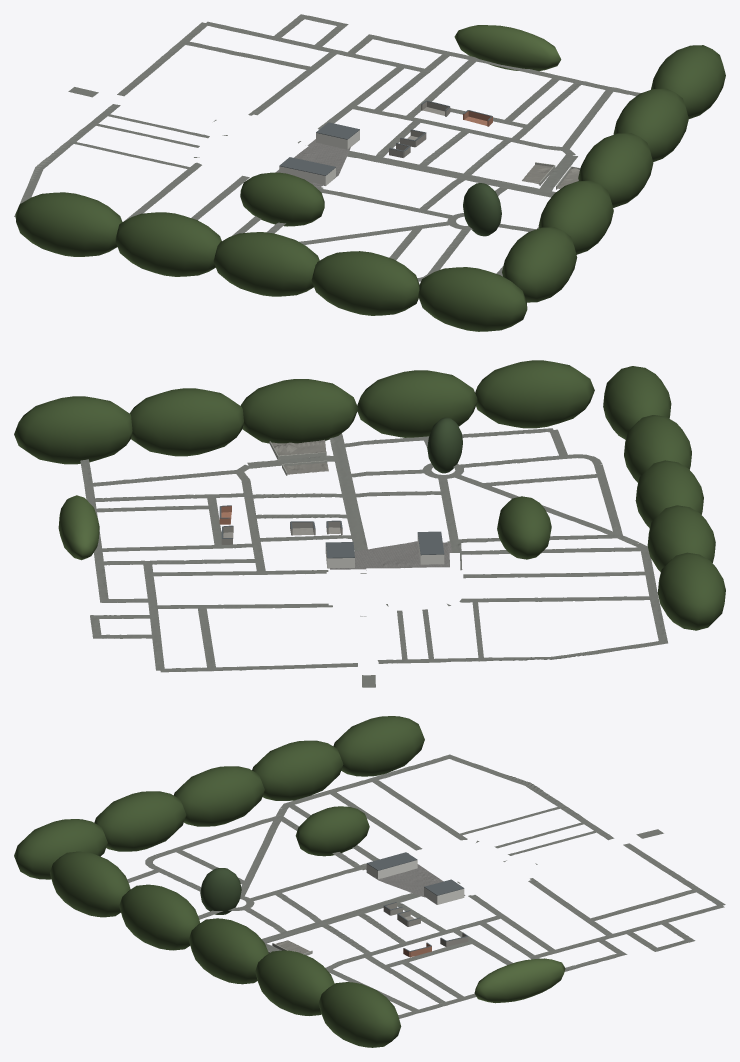
The model's file is layout.glb.
The picture shows the model from 3 angles, top to bottom: view 1: azimuth 30°, elevation 25°; view 2: azimuth 150°, elevation 25°; view 3: azimuth 270°, elevation 25°; orthographic projection. The views are drawn at different scales.
Visible parts, largest first — view 1: PROVISIONAL_spatial-main-paths, PROVISIONAL_canopy_woodland-west-4, PROVISIONAL_canopy_woodland-west-3, PROVISIONAL_canopy_woodland-west-0, PROVISIONAL_canopy_woodland-west-1, PROVISIONAL_canopy_woodland-west-2, PROVISIONAL_canopy_woodland-south-0, PROVISIONAL_canopy_woodland-south-2, PROVISIONAL_canopy_woodland-south-1, PROVISIONAL_canopy_west-mid-canopy, PROVISIONAL_canopy_woodland-south-4, PROVISIONAL_canopy_east-edge (+4 smaller); view 2: PROVISIONAL_spatial-main-paths, PROVISIONAL_canopy_woodland-south-0, PROVISIONAL_canopy_woodland-south-4, PROVISIONAL_canopy_woodland-south-3, PROVISIONAL_canopy_woodland-south-2, PROVISIONAL_canopy_woodland-south-1, PROVISIONAL_canopy_woodland-west-0, PROVISIONAL_canopy_woodland-west-4, PROVISIONAL_canopy_woodland-west-1, PROVISIONAL_canopy_woodland-west-3, PROVISIONAL_canopy_woodland-west-2, PROVISIONAL_canopy_west-mid-canopy (+5 smaller); view 3: PROVISIONAL_spatial-main-paths, PROVISIONAL_canopy_woodland-west-0, PROVISIONAL_canopy_woodland-west-3, PROVISIONAL_canopy_woodland-west-2, PROVISIONAL_canopy_woodland-west-1, PROVISIONAL_canopy_woodland-south-4, PROVISIONAL_canopy_woodland-south-1, PROVISIONAL_canopy_woodland-south-0, PROVISIONAL_canopy_woodland-south-2, PROVISIONAL_canopy_woodland-south-3, PROVISIONAL_canopy_woodland-west-4, PROVISIONAL_canopy_east-edge (+3 smaller).
Boxes of the visible parts, <box> form: PROVISIONAL_spatial-main-paths: <box>14,14,640,281</box>; PROVISIONAL_canopy_woodland-west-4: <box>418,267,527,331</box>; PROVISIONAL_canopy_woodland-west-3: <box>311,251,419,315</box>; PROVISIONAL_canopy_woodland-west-0: <box>15,192,122,256</box>; PROVISIONAL_canopy_woodland-west-1: <box>115,212,221,276</box>; PROVISIONAL_canopy_woodland-west-2: <box>213,232,319,296</box>; PROVISIONAL_canopy_woodland-south-0: <box>502,227,577,302</box>; PROVISIONAL_canopy_woodland-south-2: <box>578,133,653,207</box>; PROVISIONAL_canopy_woodland-south-1: <box>538,180,613,254</box>; PROVISIONAL_canopy_west-mid-canopy: <box>240,172,324,226</box>; PROVISIONAL_canopy_woodland-south-4: <box>651,45,725,118</box>; PROVISIONAL_canopy_east-edge: <box>454,25,561,71</box>; PROVISIONAL_spatial-main-paths: <box>80,428,667,687</box>; PROVISIONAL_canopy_woodland-south-0: <box>475,360,594,428</box>; PROVISIONAL_canopy_woodland-south-4: <box>14,396,132,464</box>; PROVISIONAL_canopy_woodland-south-3: <box>129,388,243,456</box>; PROVISIONAL_canopy_woodland-south-2: <box>240,379,358,443</box>; PROVISIONAL_canopy_woodland-south-1: <box>357,370,477,437</box>; PROVISIONAL_canopy_woodland-west-0: <box>657,552,725,630</box>; PROVISIONAL_canopy_woodland-west-4: <box>603,366,671,439</box>; PROVISIONAL_canopy_woodland-west-1: <box>647,505,715,572</box>; PROVISIONAL_canopy_woodland-west-3: <box>624,415,691,482</box>; PROVISIONAL_canopy_woodland-west-2: <box>635,460,703,528</box>; PROVISIONAL_canopy_west-mid-canopy: <box>497,496,551,559</box>; PROVISIONAL_spatial-main-paths: <box>127,754,725,1018</box>; PROVISIONAL_canopy_woodland-west-0: <box>333,716,424,776</box>; PROVISIONAL_canopy_woodland-west-3: <box>94,791,186,851</box>; PROVISIONAL_canopy_woodland-west-2: <box>173,766,264,826</box>; PROVISIONAL_canopy_woodland-west-1: <box>252,740,343,800</box>; PROVISIONAL_canopy_woodland-south-4: <box>318,982,401,1047</box>; PROVISIONAL_canopy_woodland-south-1: <box>119,884,199,950</box>; PROVISIONAL_canopy_woodland-south-0: <box>50,851,130,917</box>; PROVISIONAL_canopy_woodland-south-2: <box>189,918,268,984</box>; PROVISIONAL_canopy_woodland-south-3: <box>255,950,334,1015</box>; PROVISIONAL_canopy_woodland-west-4: <box>14,819,107,879</box>; PROVISIONAL_canopy_east-edge: <box>474,958,565,1003</box>.
Size of the model in its own units: 239 by 20.43 by 236.
Materials: 11 (1 with a texture image).
